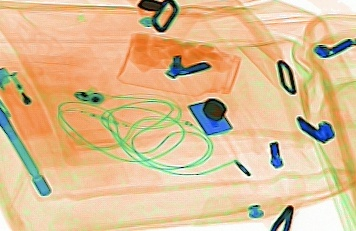lighter: (1, 63, 51, 140)
